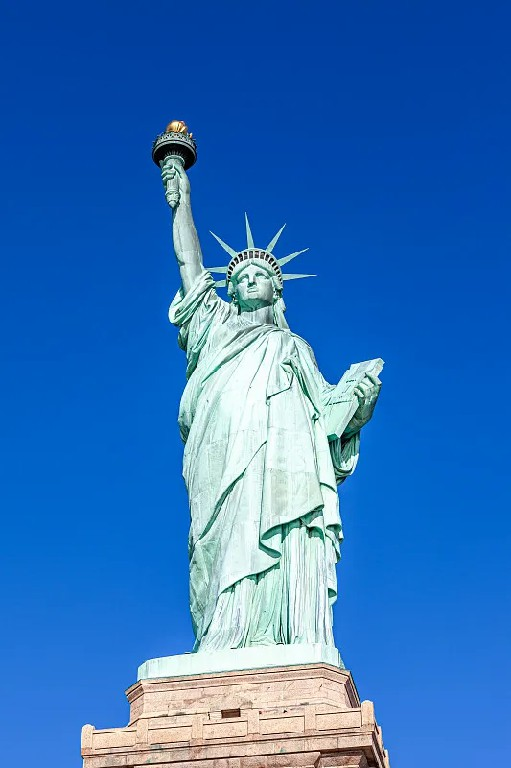SL: (81, 119, 389, 768)
